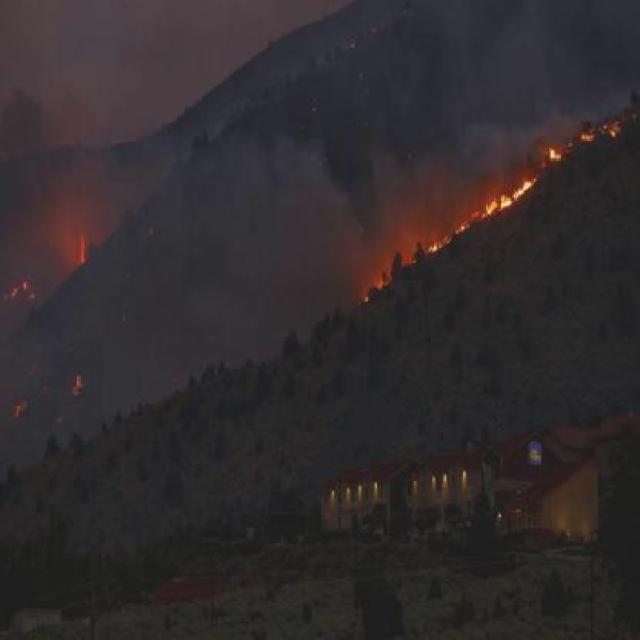Fire: (426, 208, 480, 254), (486, 176, 536, 215), (579, 121, 618, 144), (7, 279, 35, 304), (78, 231, 87, 267), (15, 396, 28, 418), (546, 145, 562, 161), (70, 374, 81, 396), (376, 274, 384, 288)
